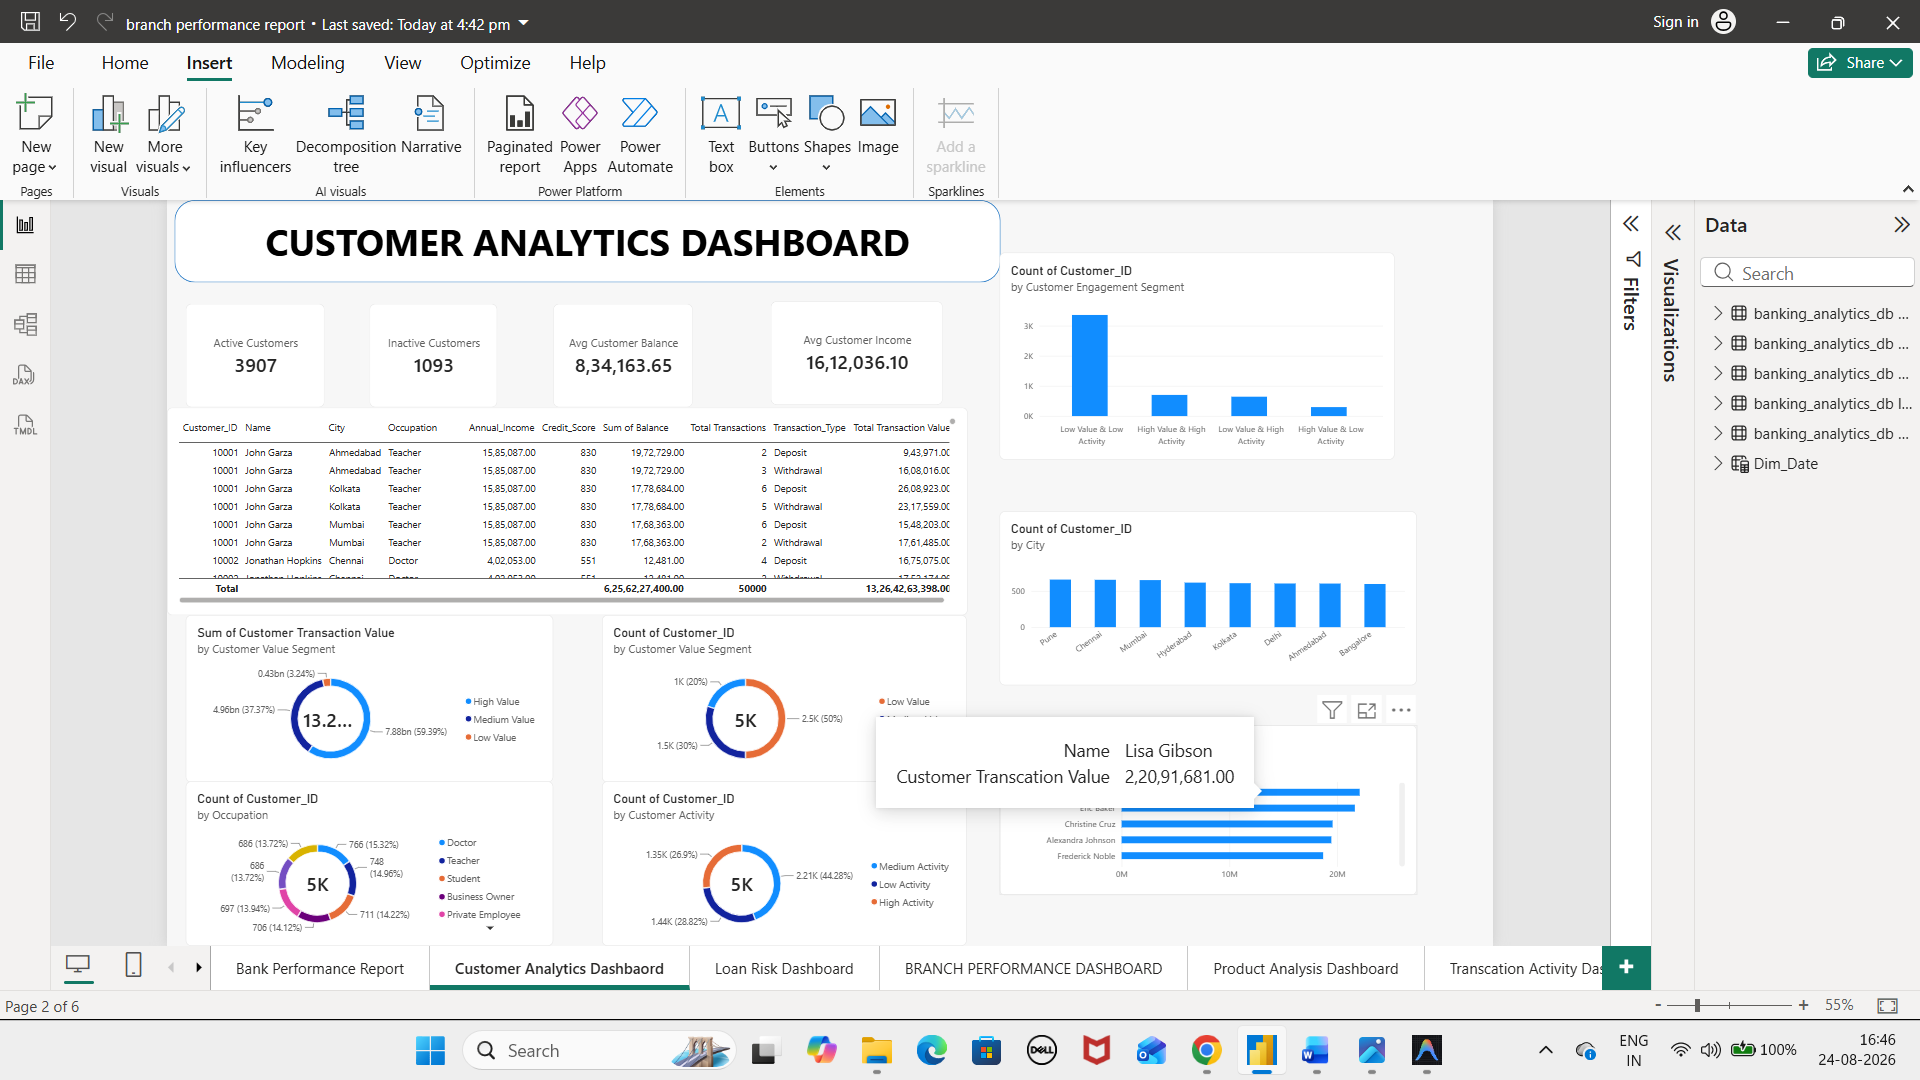

The page's visual inventory and layout, read from the dashboard file:
{"tool":"powerbi","page":{"name":"Customer Analytics Dashbaord","canvas":[1920,1080],"ordinal":1},"visuals":[{"type":"shape","box":[10.3,0,1195.9,119.4],"z":0},{"type":"cardVisual","fields":{"Data":["Dim_Date.Active Customers"]},"box":[28,150,201.7,150.3],"z":1},{"type":"cardVisual","fields":{"Data":["Dim_Date.Avg Customer Balance"]},"box":[560,150,202,150],"z":2},{"type":"cardVisual","fields":{"Data":["Dim_Date.Inactive Customers"]},"box":[294,150,185.2,150.3],"z":3},{"type":"cardVisual","fields":{"Data":["Dim_Date.Avg Customer Income"]},"box":[874,146,249.1,150.3],"z":5},{"type":"tableEx","fields":{"Values":["banking_analytics_db accounts.Customer_ID","banking_analytics_db customers.Name","banking_analytics_db branches.City","banking_analytics_db customers.Occupation","banking_analytics_db customers.Annual_Income","banking_analytics_db customers.Credit_Score","Sum(banking_analytics_db accounts.Balance)","Dim_Date.Total Transactions","banking_analytics_db transactions.Transaction_Type","banking_analytics_db accounts.Total Transaction Value"]},"box":[0,300,1158.8,300.5],"z":6},{"type":"donutChart","fields":{"Category":["banking_analytics_db customers.Customer Value Segment"],"Y":["Sum(banking_analytics_db customers.Customer Transaction Value)"]},"box":[28,600,532,242],"z":7},{"type":"donutChart","fields":{"Category":["banking_analytics_db customers.Customer Value Segment"],"Y":["CountNonNull(banking_analytics_db customers.Customer_ID)"]},"box":[630,600,528,242],"z":8},{"type":"donutChart","fields":{"Category":["banking_analytics_db customers.Occupation"],"Y":["CountNonNull(banking_analytics_db customers.Customer_ID)"]},"box":[28,842,532,238],"z":9},{"type":"donutChart","fields":{"Category":["banking_analytics_db customers.Customer Activity"],"Y":["CountNonNull(banking_analytics_db customers.Customer_ID)"]},"box":[630,842,528,238],"z":10},{"type":"clusteredColumnChart","fields":{"Category":["banking_analytics_db customers.Customer Engagement Segment"],"Y":["CountNonNull(banking_analytics_db customers.Customer_ID)"]},"box":[1206,76,572,300],"z":11},{"type":"clusteredColumnChart","fields":{"Category":["banking_analytics_db customers.City"],"Y":["CountNonNull(banking_analytics_db customers.Customer_ID)"]},"box":[1206,450,604,252],"z":12},{"type":"clusteredBarChart","fields":{"Category":["banking_analytics_db customers.Name"],"Y":["Dim_Date.Customer Transcation Value"]},"box":[1206,760,604,246],"z":13}]}

Visuals, with their boxes on the page's 1920x1080 design canvas (x1, y1, x2, y2). These are canvas units, not pixel positions in the 1920x1080 screenshot, which may show the page scaled, cropped or inside an application window:
shape: x1=10, y1=0, x2=1206, y2=119
cardVisual - Dim_Date.Active Customers: x1=28, y1=150, x2=230, y2=300
cardVisual - Dim_Date.Avg Customer Balance: x1=560, y1=150, x2=762, y2=300
cardVisual - Dim_Date.Inactive Customers: x1=294, y1=150, x2=479, y2=300
cardVisual - Dim_Date.Avg Customer Income: x1=874, y1=146, x2=1123, y2=296
tableEx - banking_analytics_db accounts.Customer_ID x banking_analytics_db customers.Name: x1=0, y1=300, x2=1159, y2=600
donutChart - banking_analytics_db customers.Customer Value Segment x Sum(banking_analytics_db customers.Customer Transaction Value): x1=28, y1=600, x2=560, y2=842
donutChart - banking_analytics_db customers.Customer Value Segment x CountNonNull(banking_analytics_db customers.Customer_ID): x1=630, y1=600, x2=1158, y2=842
donutChart - banking_analytics_db customers.Occupation x CountNonNull(banking_analytics_db customers.Customer_ID): x1=28, y1=842, x2=560, y2=1080
donutChart - banking_analytics_db customers.Customer Activity x CountNonNull(banking_analytics_db customers.Customer_ID): x1=630, y1=842, x2=1158, y2=1080
clusteredColumnChart - banking_analytics_db customers.Customer Engagement Segment x CountNonNull(banking_analytics_db customers.Customer_ID): x1=1206, y1=76, x2=1778, y2=376
clusteredColumnChart - banking_analytics_db customers.City x CountNonNull(banking_analytics_db customers.Customer_ID): x1=1206, y1=450, x2=1810, y2=702
clusteredBarChart - banking_analytics_db customers.Name x Dim_Date.Customer Transcation Value: x1=1206, y1=760, x2=1810, y2=1006
